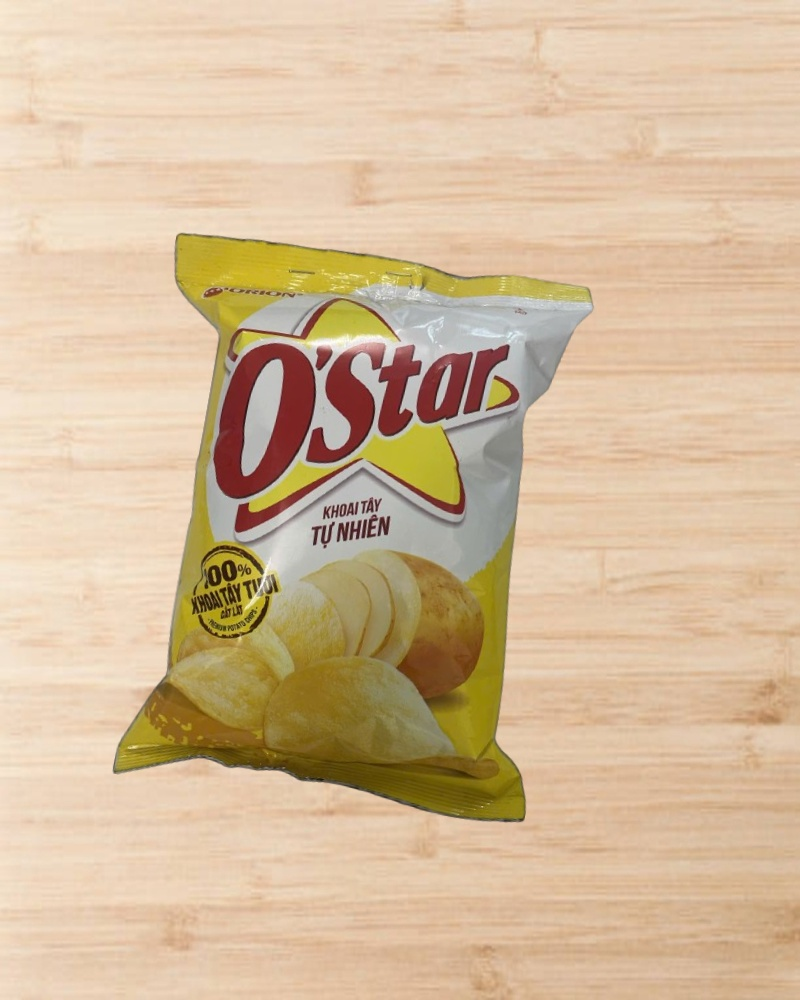O'star: (85, 216, 617, 845)
